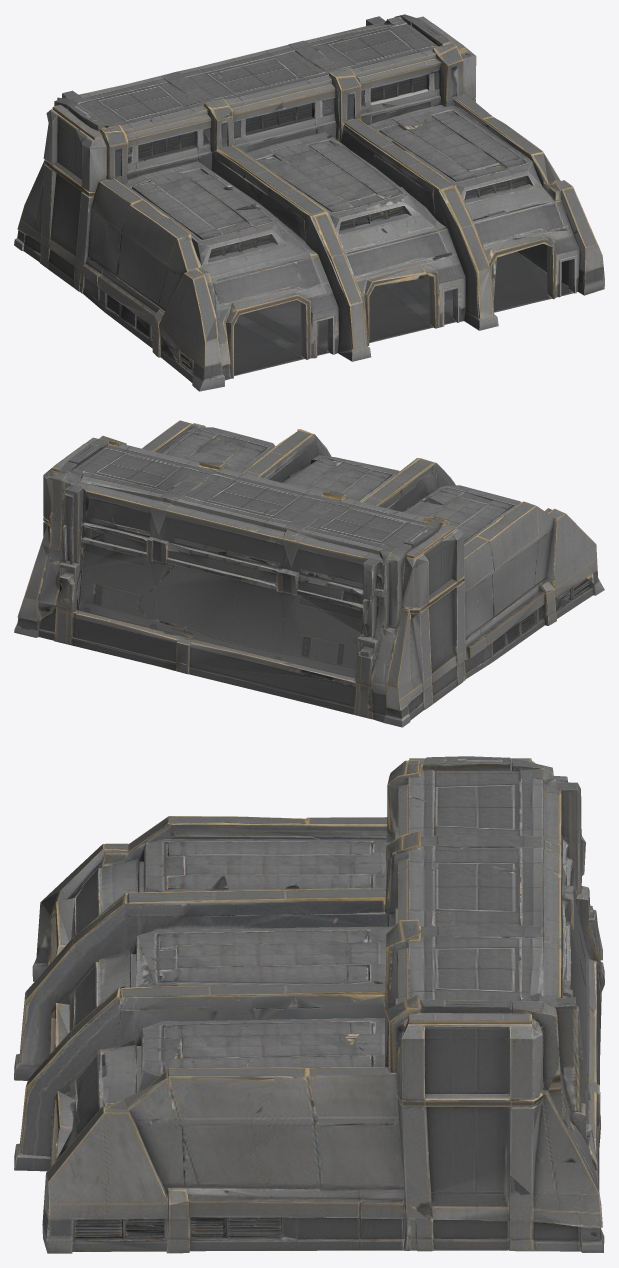
Rendered from imperial_munitions_plant_lod1.glb.
The picture shows the model from 3 angles, top to bottom: view 1: azimuth 30°, elevation 25°; view 2: azimuth 150°, elevation 25°; view 3: azimuth 270°, elevation 25°; orthographic projection. The views are drawn at different scales.
Parts seen in each view (by area): view 1: mesh_node; view 2: mesh_node; view 3: mesh_node.
Part boxes in pixels (bbox=[...]): mesh_node: bbox=[14, 14, 604, 391]; mesh_node: bbox=[14, 420, 604, 727]; mesh_node: bbox=[14, 756, 604, 1253].
Size of the model in its own units: 31.72 by 11.8 by 27.36.
1 material, 1 textured.
